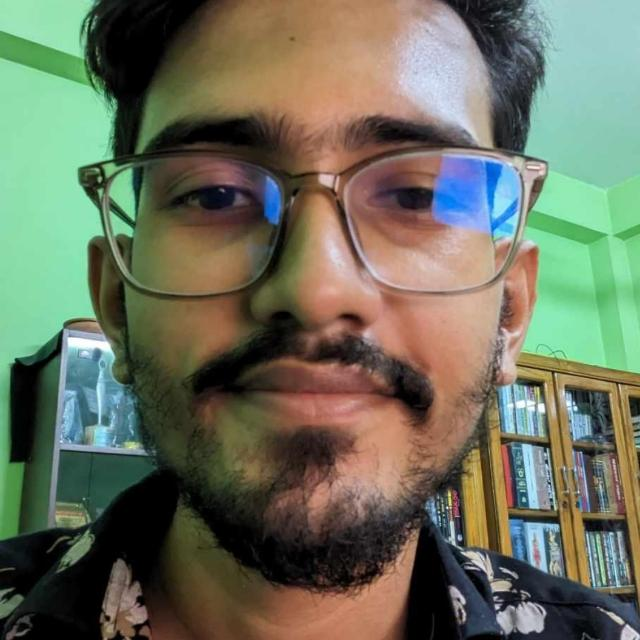Happy: (27, 25, 625, 573)
